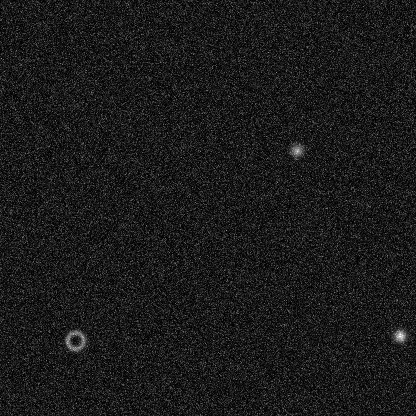Ring: (63, 328, 87, 352)
Spot: (391, 327, 407, 343), (288, 142, 304, 158)
